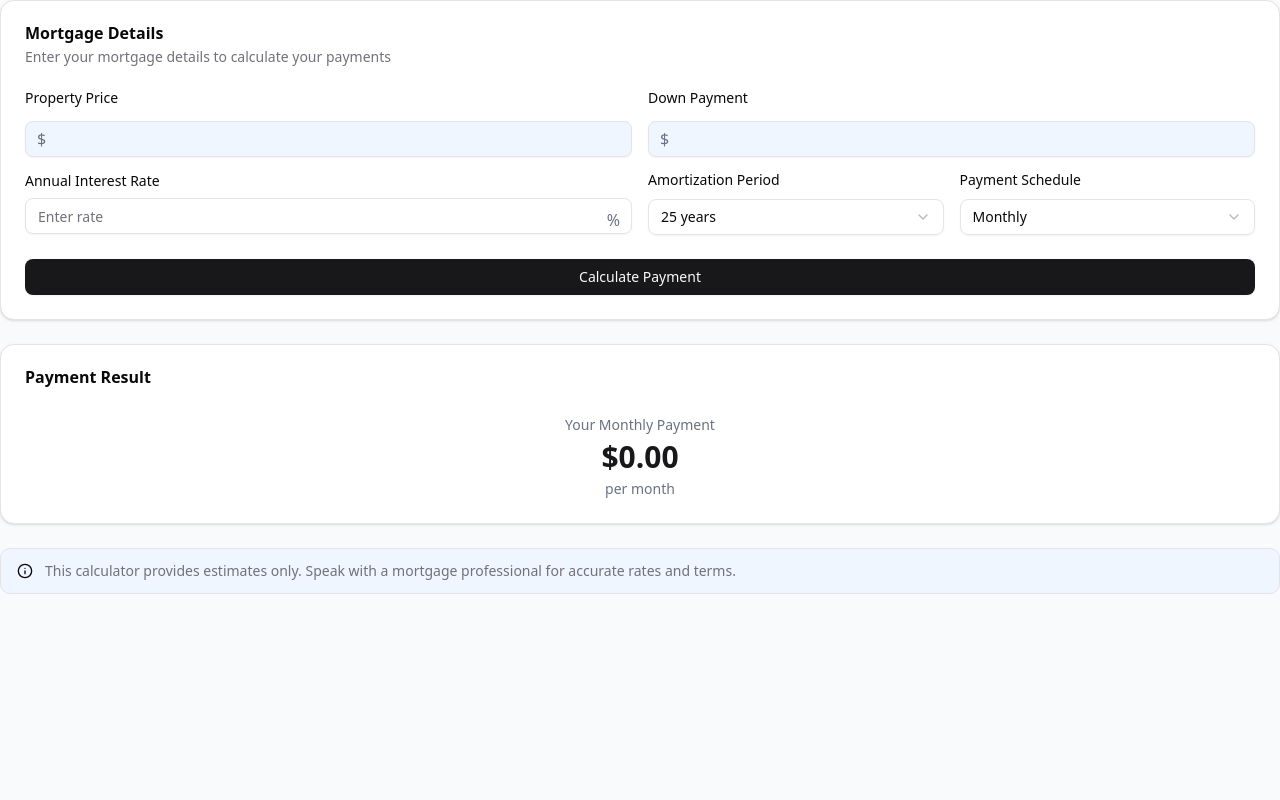
it: MortgageCalculator › calculates mortgage with standard down payment and interest rate
Type "400000" into the field labelled "Property Price" at x=328, y=139, box [25,121,632,157]
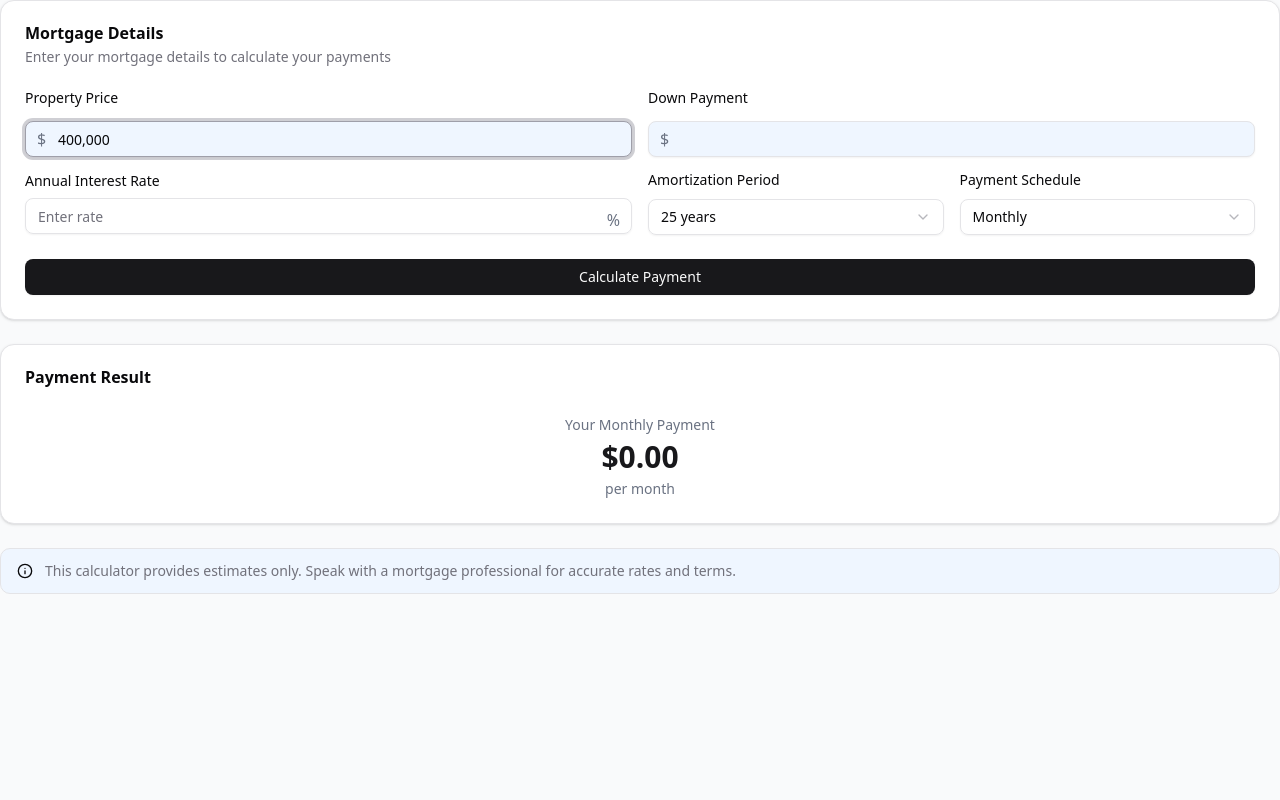
Type "80000" into the field labelled "Down Payment" at x=952, y=139, box [648,121,1255,157]
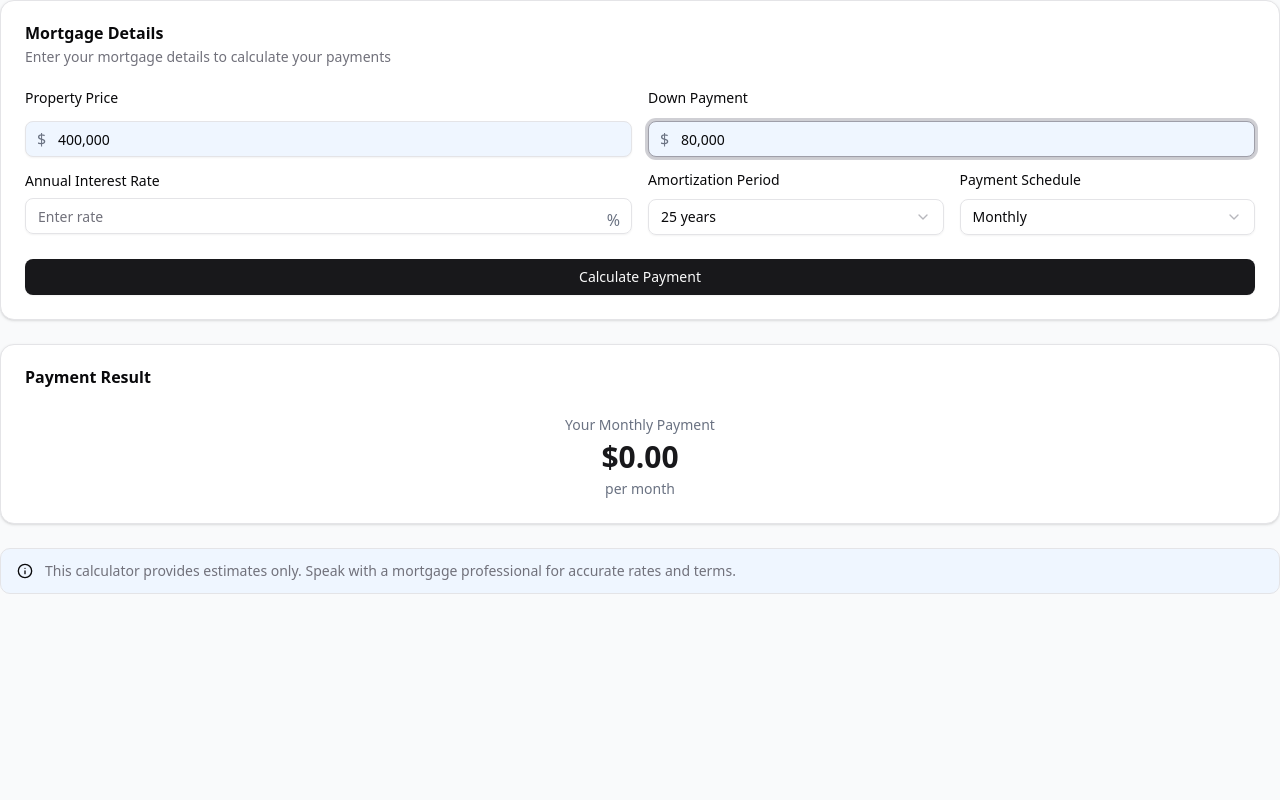
Type "4.5" into the field labelled "Annual Interest Rate" at x=328, y=216, box [25,198,632,234]
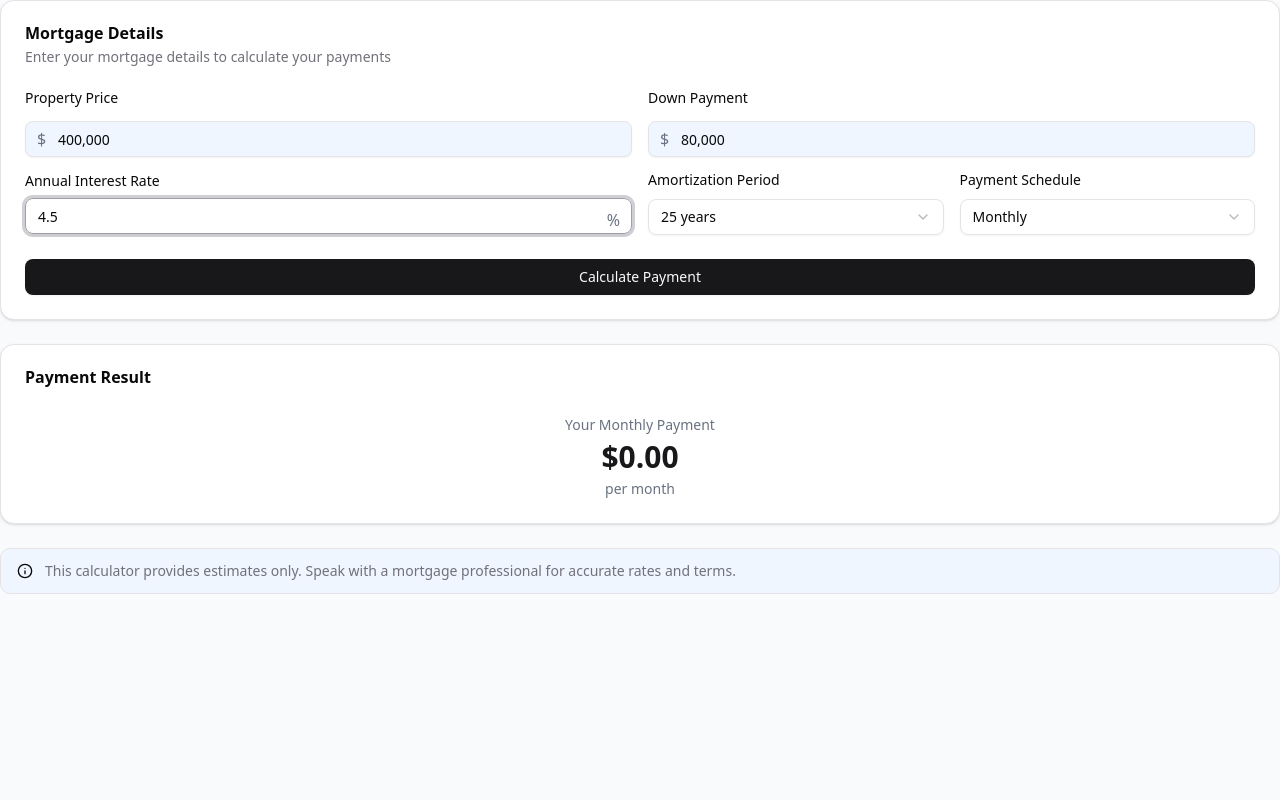
Click the button "Calculate Payment" at x=640, y=277, box [25,259,1255,295]
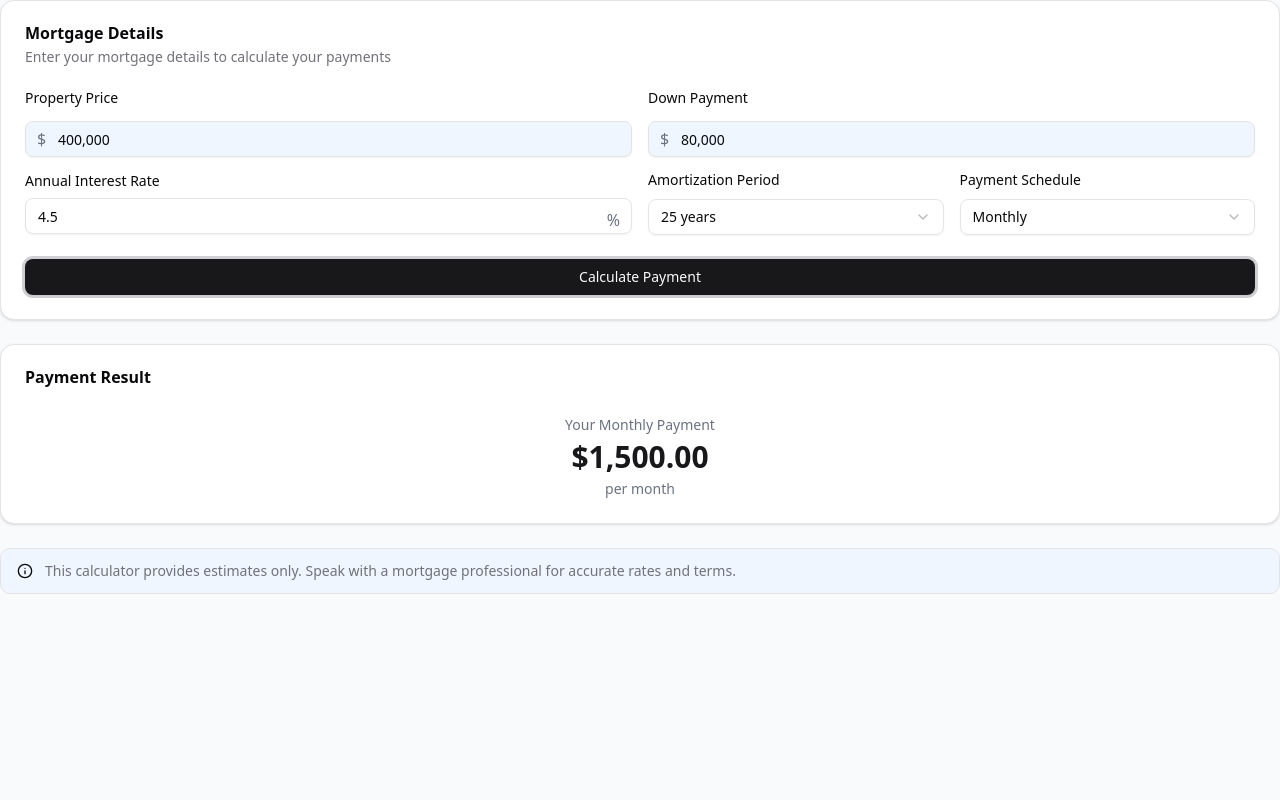
Result: the text "$1,500.00" is shown at [571,436,709,477]
